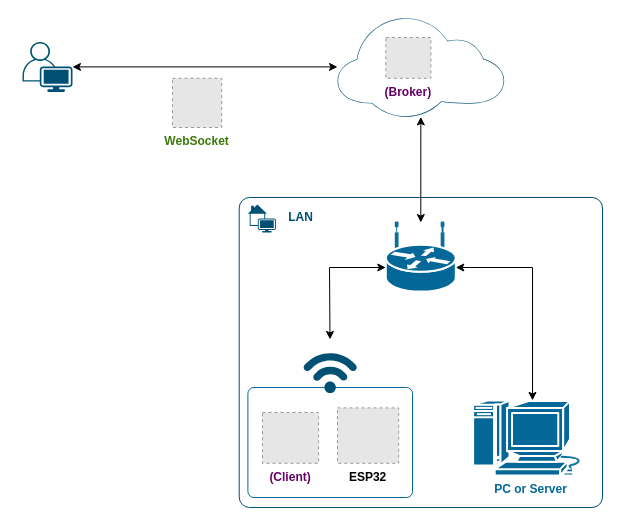
Some shapes in this 620 by 526 pixel diagram are drawn without their labels. Grey dashed boxes stand in for pictures. Here are the shapes that lost their labels. From the top down, the centre of each, then its label:
(x=47, y=66): Client App
(x=420, y=256): Router
